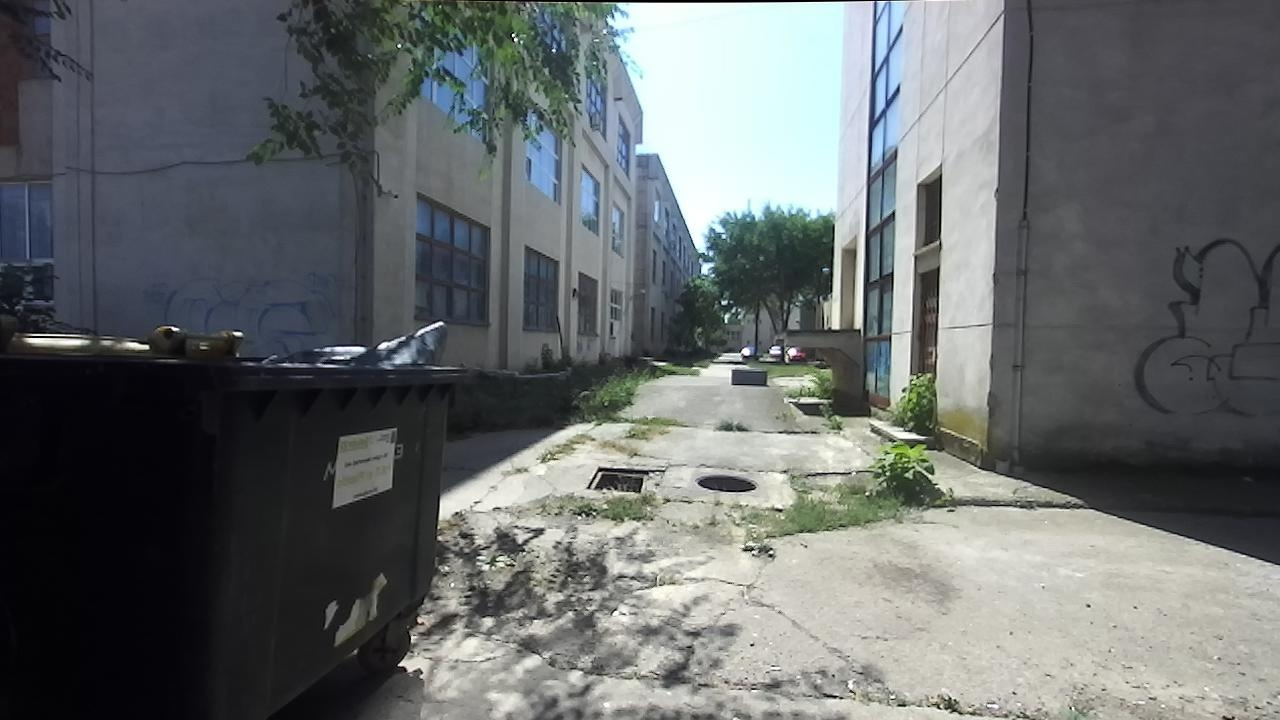drain: (578, 463, 653, 495), (693, 465, 761, 497)
